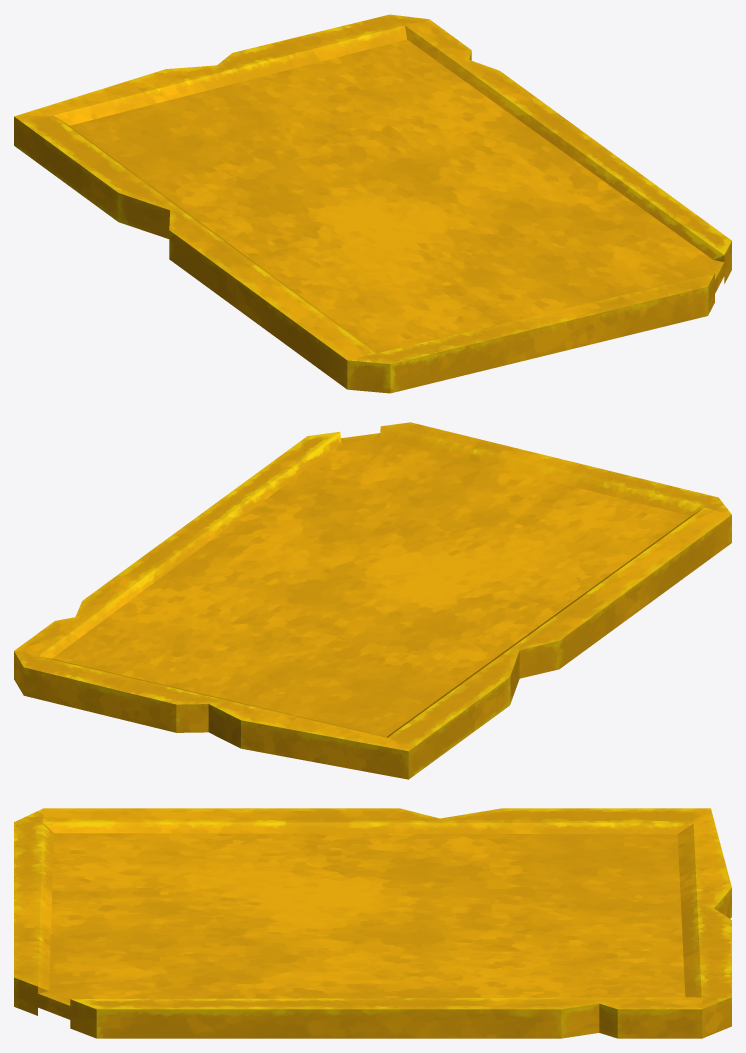
The model's file is Prototipo_Ficha.fbx.
The picture shows the model from 3 angles, top to bottom: view 1: azimuth 30°, elevation 25°; view 2: azimuth 150°, elevation 25°; view 3: azimuth 270°, elevation 25°; orthographic projection. The views are drawn at different scales.
Visible parts, largest first — view 1: Plane.002; view 2: Plane.002; view 3: Plane.002.
Boxes of the visible parts, bbox=[...] form: Plane.002: bbox=[14, 14, 731, 393]; Plane.002: bbox=[14, 422, 731, 779]; Plane.002: bbox=[14, 808, 731, 1038].
Bounding box in the file's own units: 100 × 6.8 × 151.
